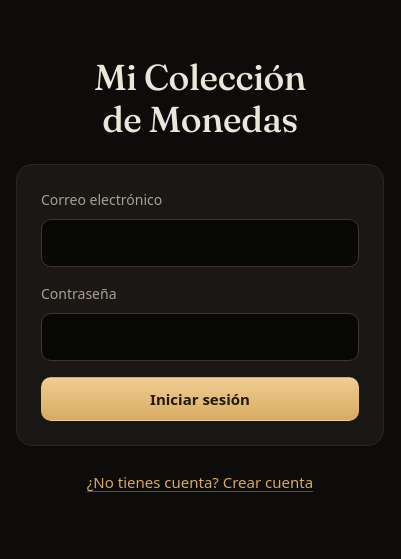
Test case: muestra un mensaje claro cuando el correo ya está registrado
Click the button "¿No tienes cuenta? Crear cuenta" at (200, 483), box [87, 471, 313, 494]
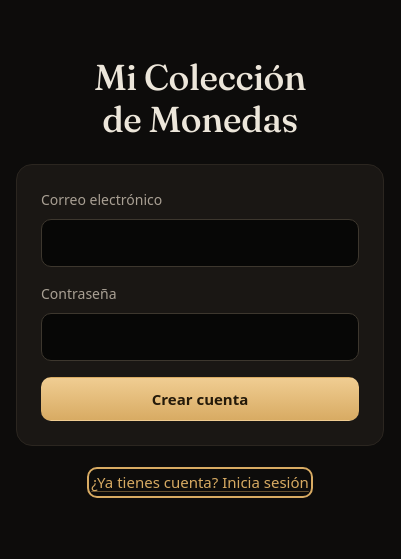
Type "coleccionista@ejemplo.cl" into the field labelled "Correo electrónico" at (200, 243), box [41, 219, 359, 267]
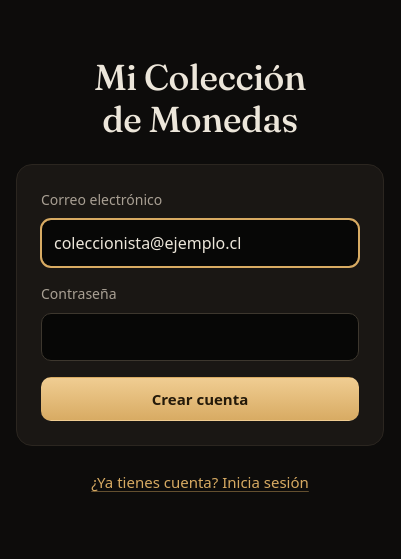
Type "secreta123" into the password field labelled "Contraseña" at (200, 337), box [41, 313, 359, 361]
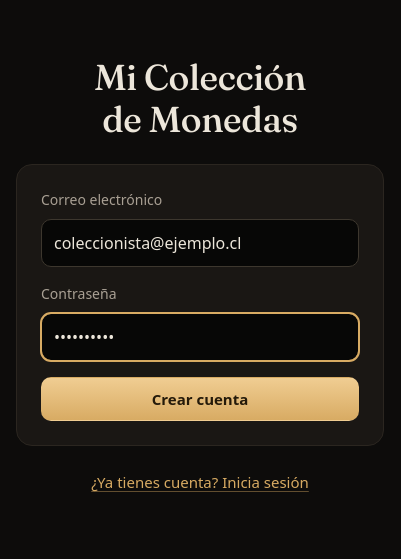
Click the button "Crear cuenta" at (200, 399), box [41, 377, 359, 421]
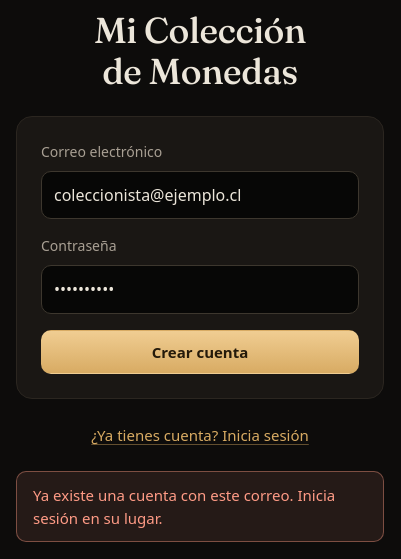
expect the message shows "Ya existe una cuenta": met, box [33, 485, 335, 528]
